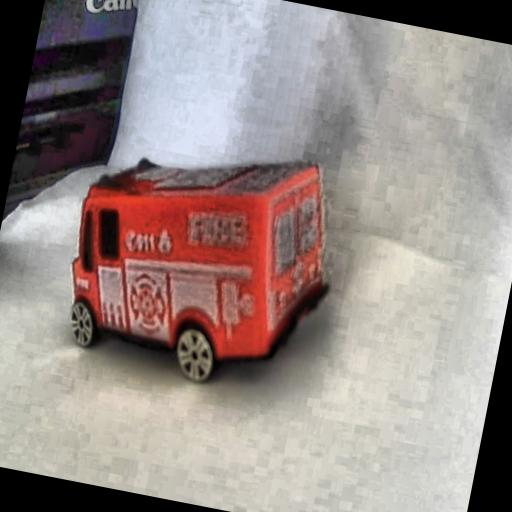fire_truck: (46, 118, 355, 408), (122, 191, 230, 272)
